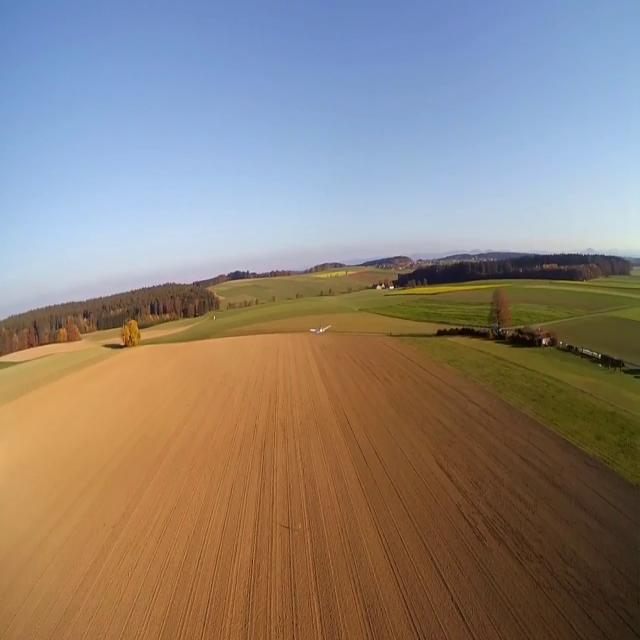iha: (309, 321, 331, 325)
